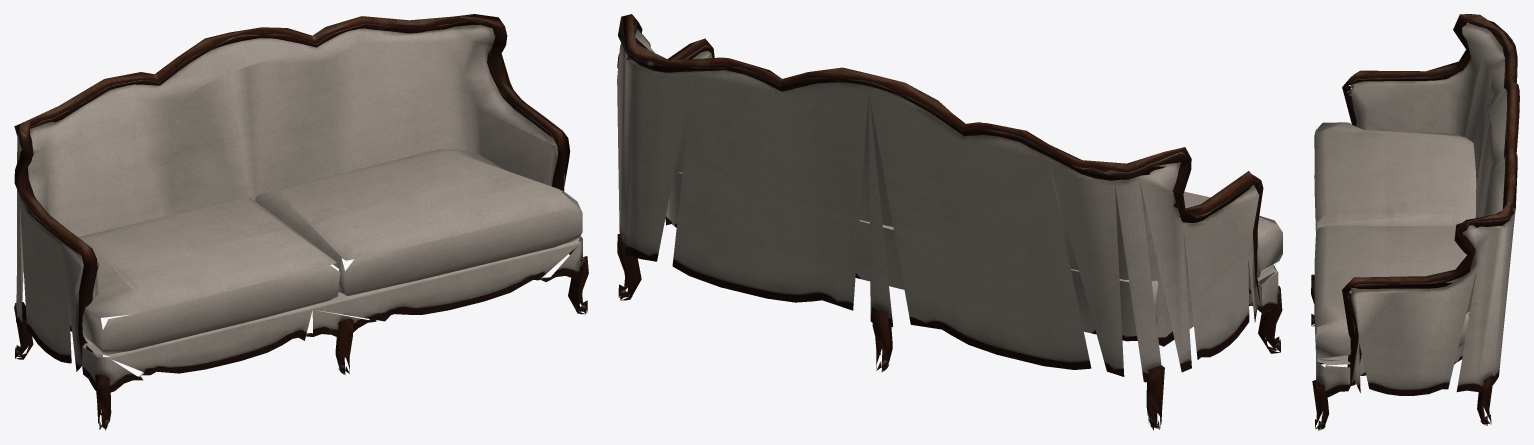
The model's file is Sofa_01_1k.glb.
3 views of the same model, side by side, from view 1: azimuth 30°, elevation 25°; view 2: azimuth 150°, elevation 25°; view 3: azimuth 270°, elevation 25° (orthographic). The views are drawn at different scales.
Visible parts, largest first — view 1: Sofa_01; view 2: Sofa_01; view 3: Sofa_01.
Boxes of the visible parts, x1=… form: Sofa_01: x1=14, y1=14, x2=588, y2=430; Sofa_01: x1=617, y1=14, x2=1282, y2=430; Sofa_01: x1=1311, y1=14, x2=1519, y2=430.
Bounding box in the file's own units: 1.57 × 0.7889 × 0.6504.
Materials: 1 (1 with a texture image).
